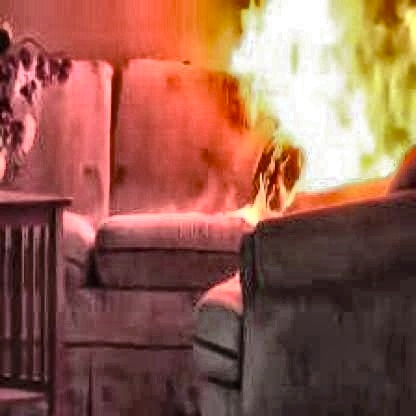fire: (223, 2, 416, 236)
